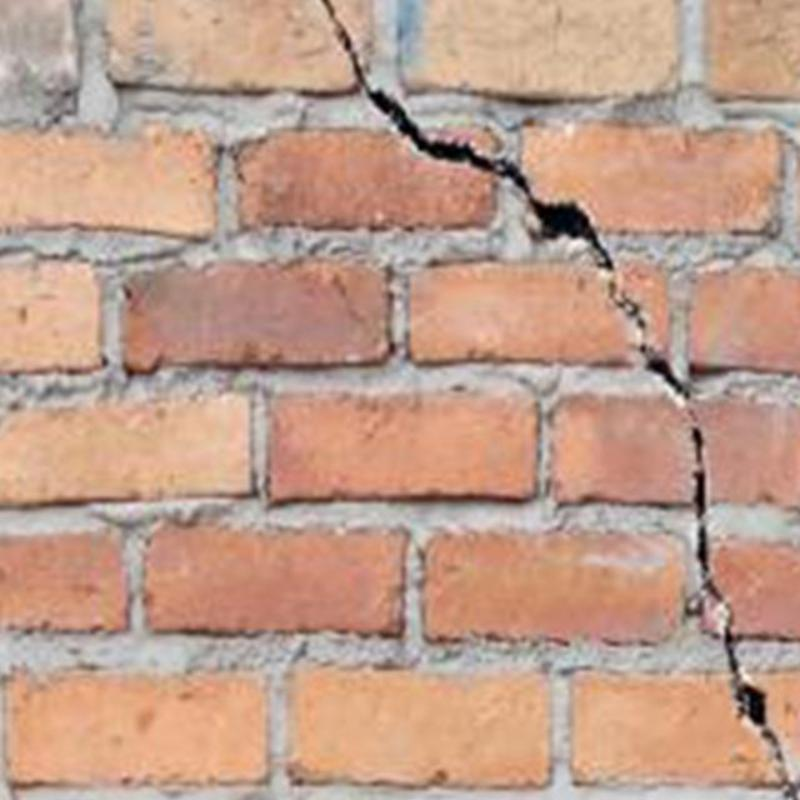crack: (323, 0, 689, 398), (694, 427, 800, 799)
